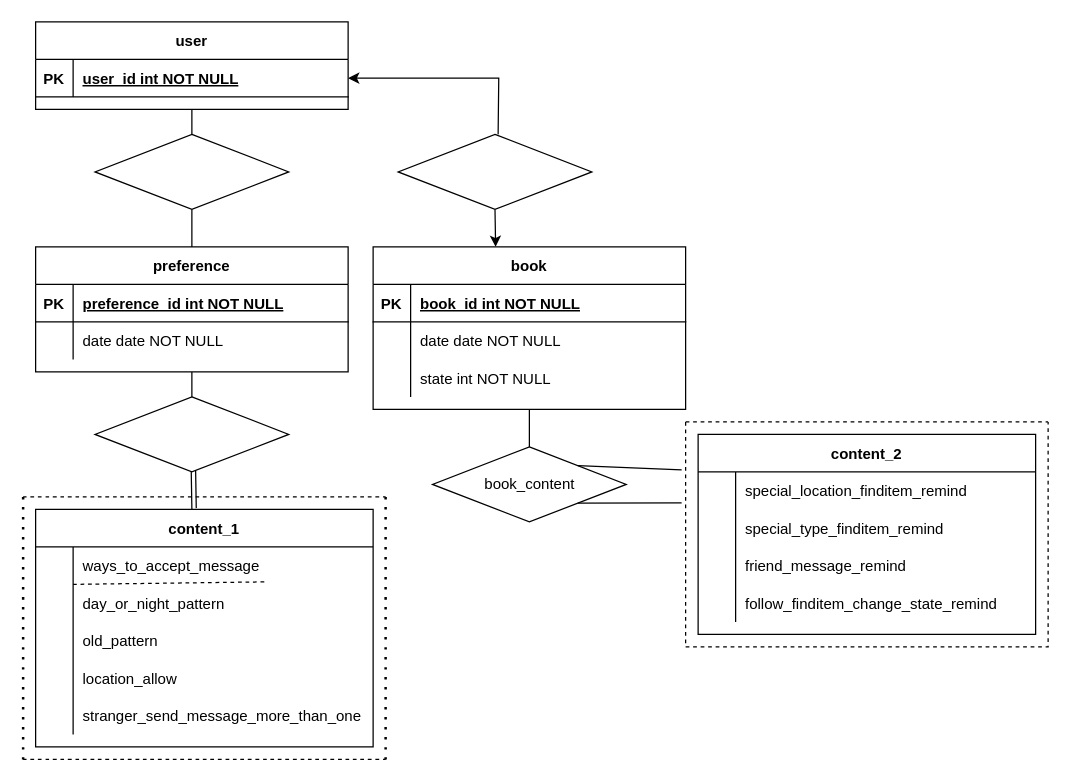
Some shapes in this 1070 by 784 pixel diagram are drawn without their labels. Each missing label, with the centre of its shape:
"prefer_content" belongs at pixel 191 434.
"user_book" belongs at pixel 494 171.
"user_preference" belongs at pixel 191 171.
